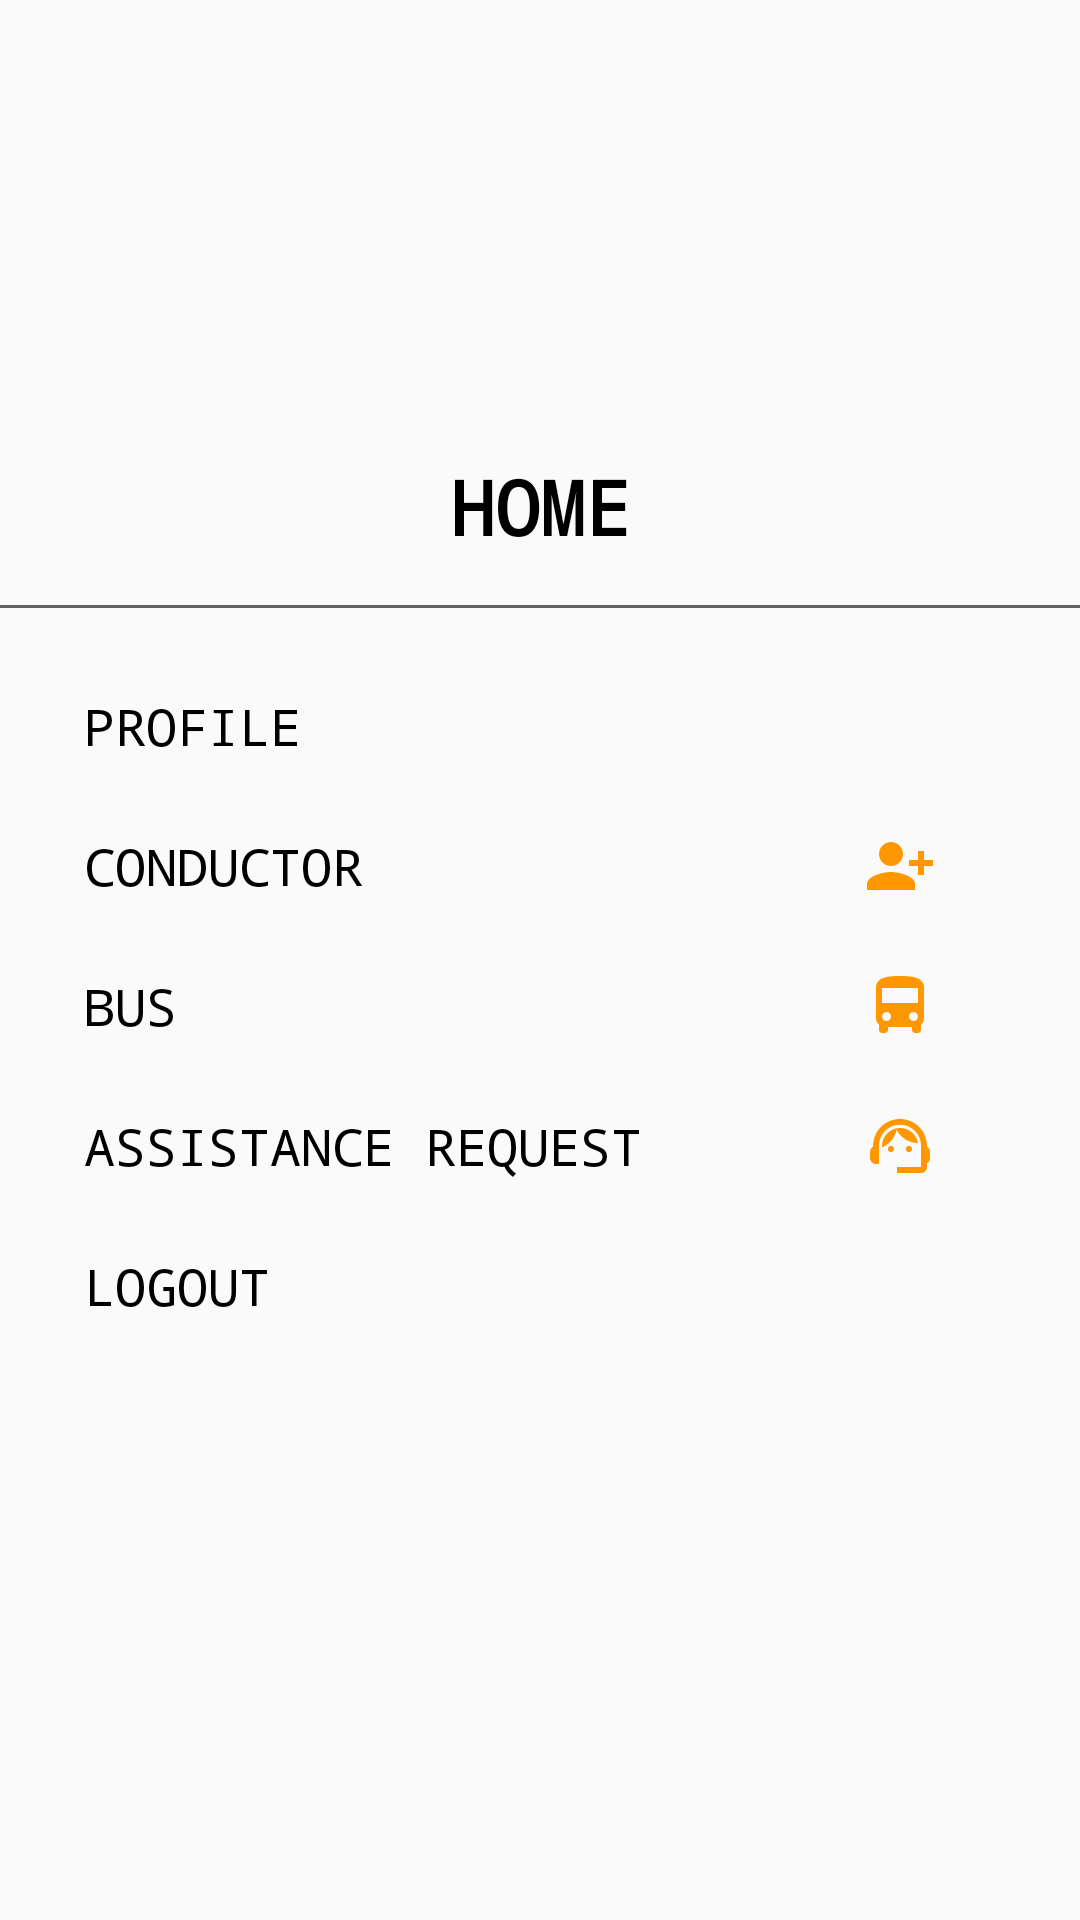

Screen size 1080px x 1920px. Icon name, then its center in pixels as (x=x, y=y):
institute add student: (x=900, y=866)
